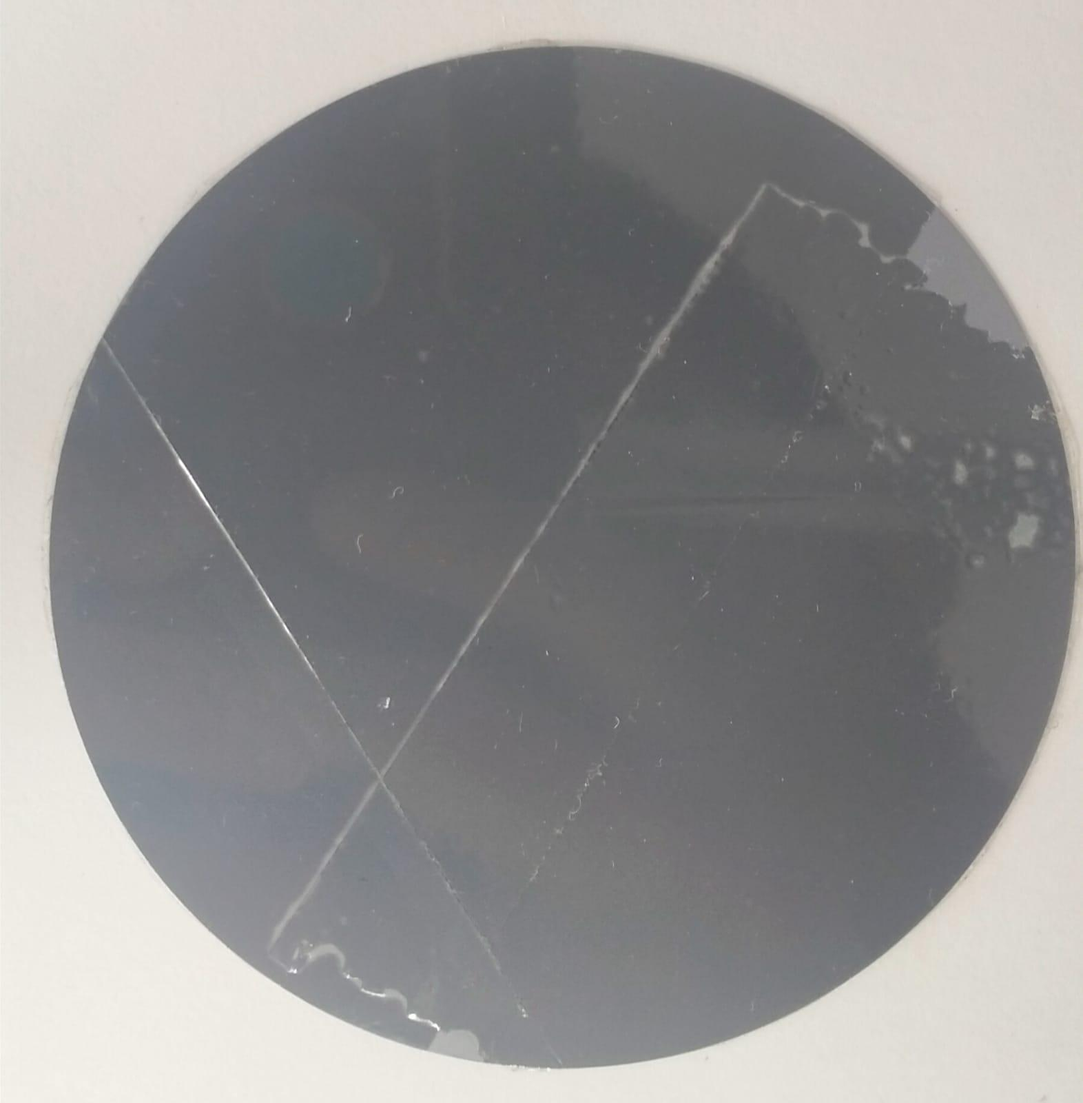crack: (258, 177, 768, 962), (86, 332, 575, 1070)
scratch: (851, 404, 929, 482), (996, 495, 1051, 572), (924, 442, 984, 510), (1002, 384, 1053, 443)
